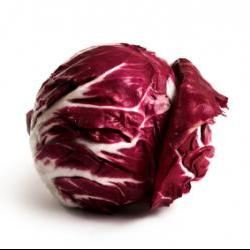cabbage: (24, 40, 231, 221)
